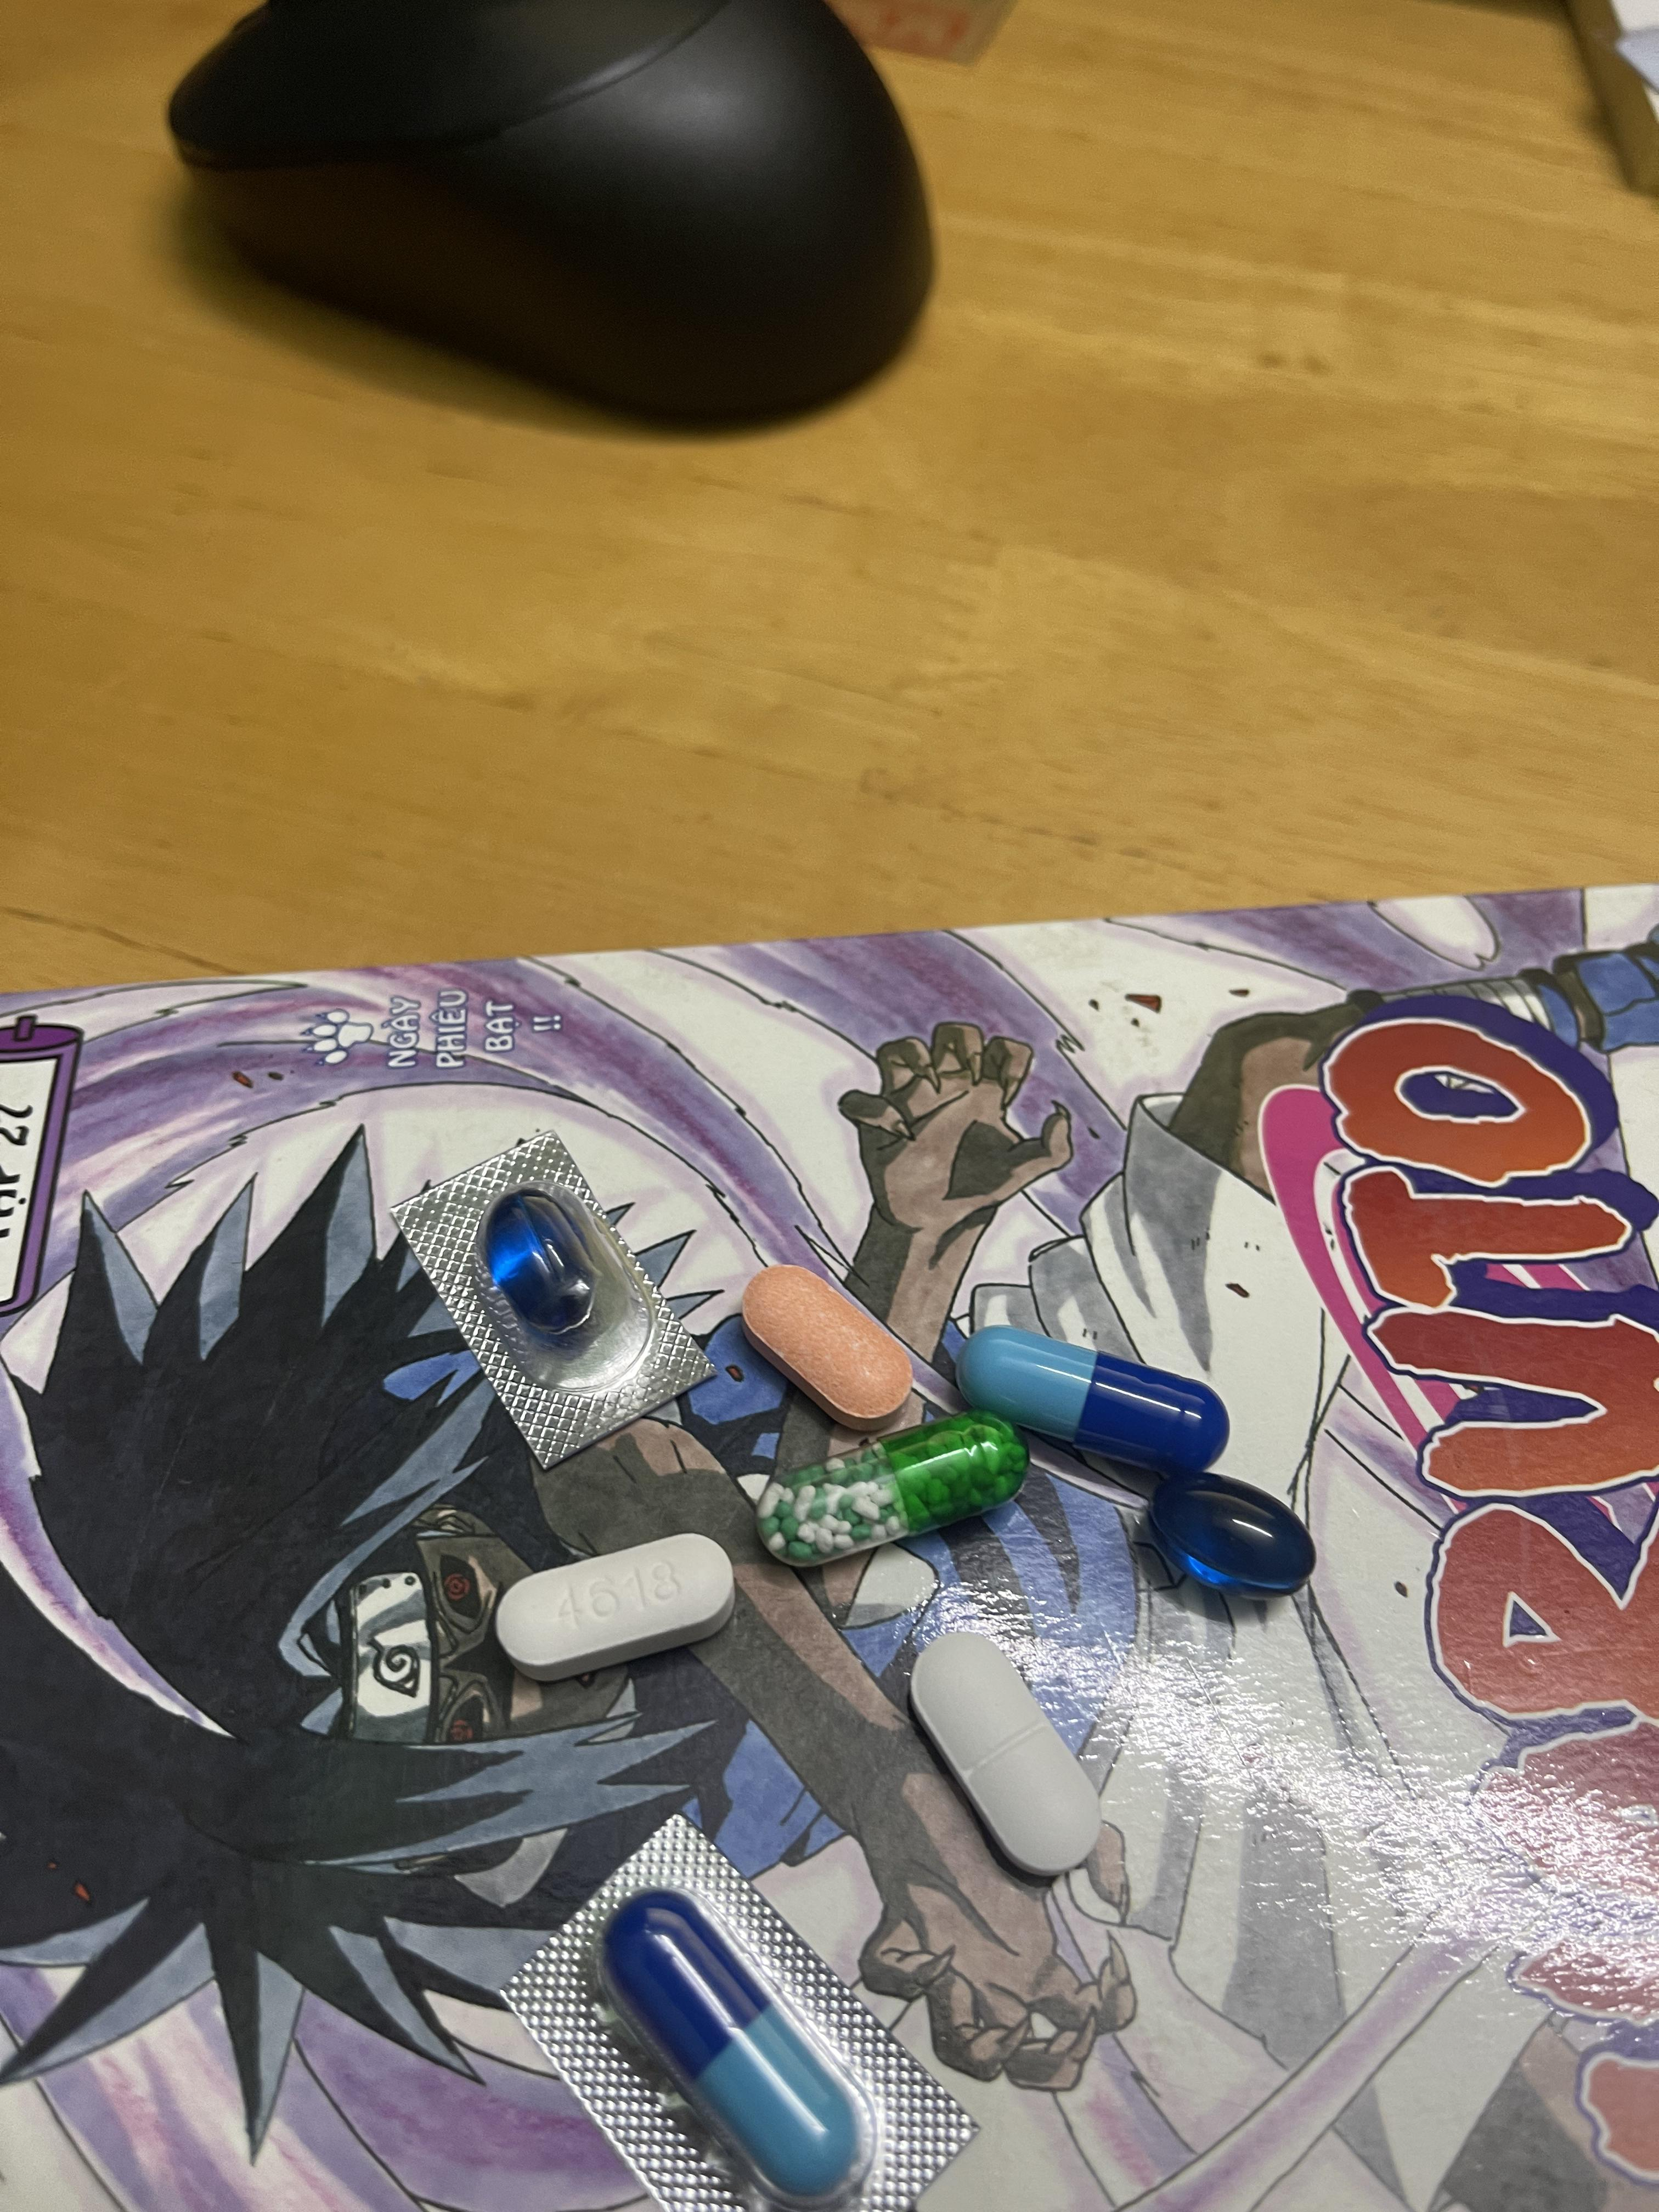Lincomyxin_500mg: (1147, 1472, 1314, 1599), (488, 1198, 596, 1332)
Loratadine_10mg: (746, 1266, 911, 1420)
Paracetamol_350mg: (904, 1625, 1101, 1879)
Paracetamol_500mg: (498, 1536, 732, 1669)
Paracetamol_650mg: (763, 1411, 1025, 1559)
pill: (605, 1904, 859, 2195), (953, 1332, 1220, 1475)
